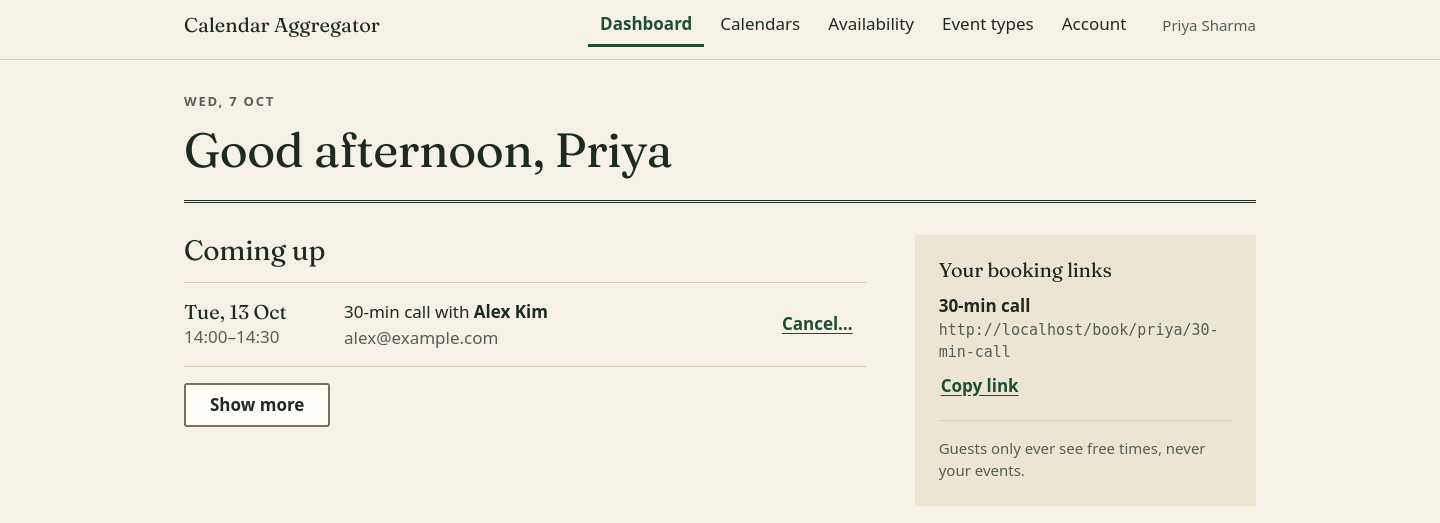
Test: the dashboard › loads more bookings a page at a time
The width and height of the screenshot is (1440, 523).
Click the button "Show more" at [257, 405], box left=184, top=383, right=330, bottom=427
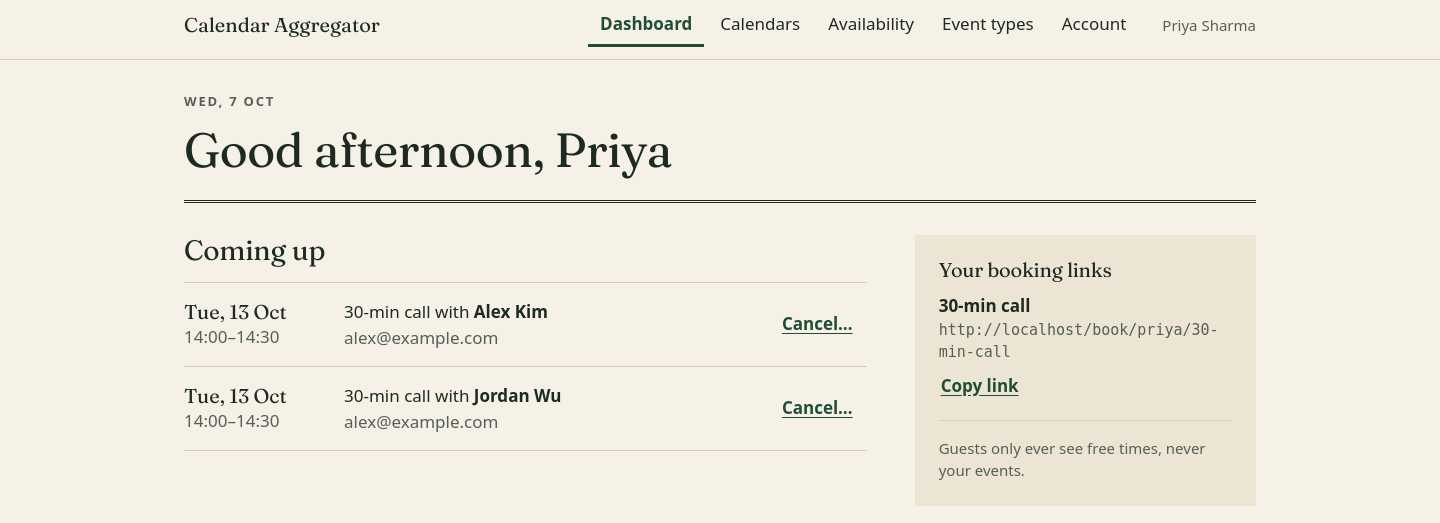
Expected: the text "Jordan Wu" is shown, left=474, top=384, right=561, bottom=407
Expected: the button "Show more" is gone
